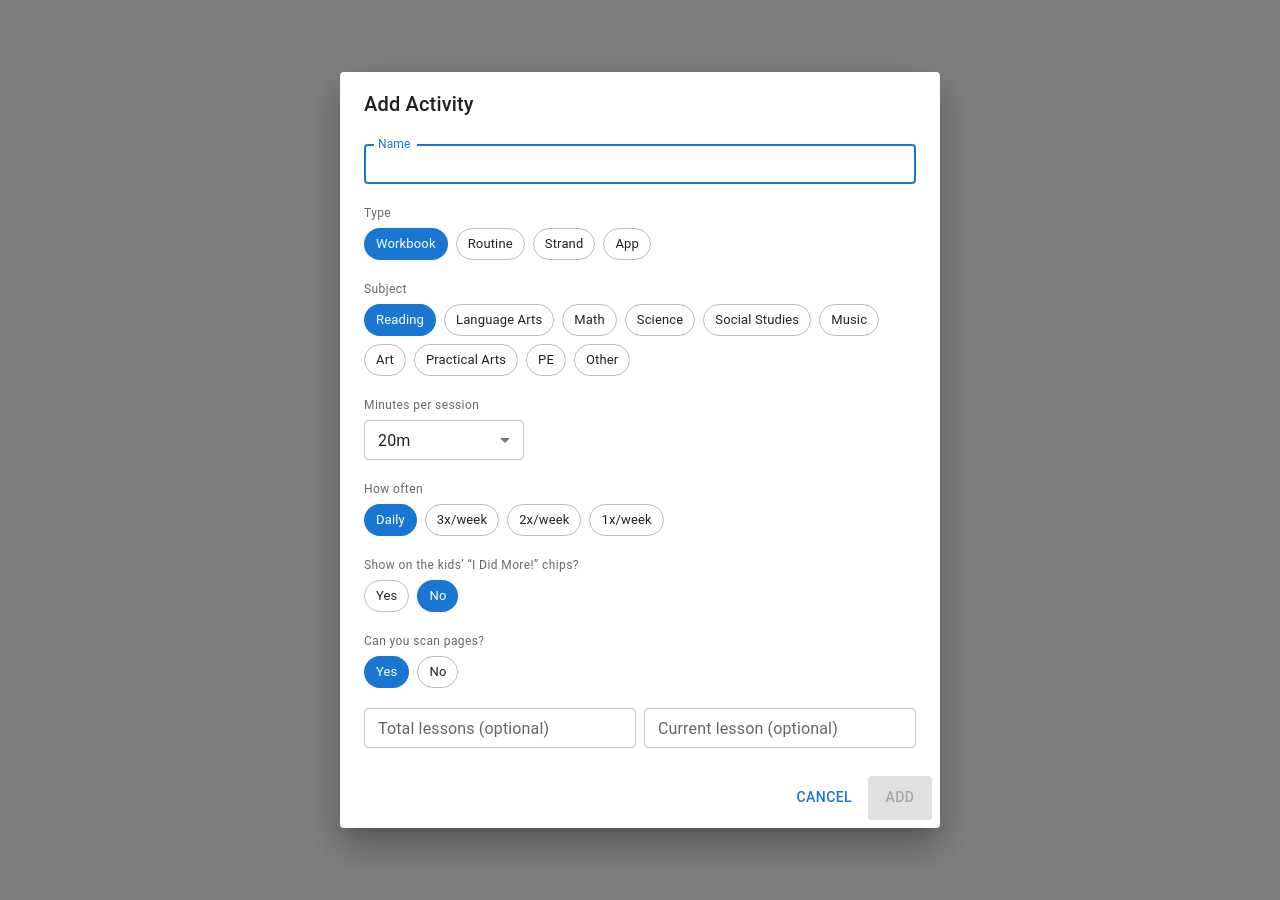
AddActivityDialog — minutes dropdown (UX-267) › offers the 15-minute steps plus the legacy 10/20 values
The width and height of the screenshot is (1280, 900).
Click the dropdown "20m" at {"x": 394, "y": 440}, box left=378, top=430, right=410, bottom=450
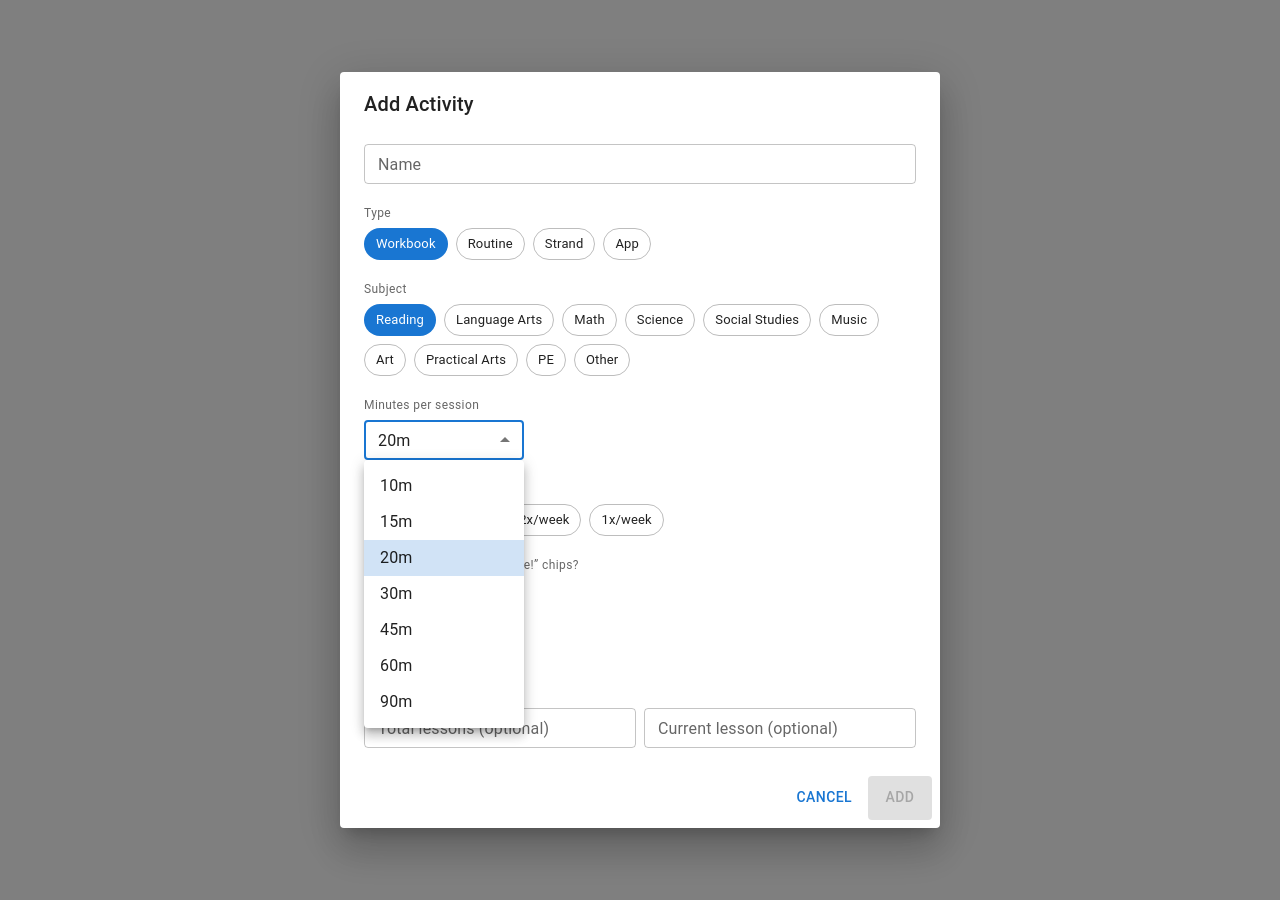
Expected: the option "10m" is shown, left=380, top=476, right=412, bottom=495
Expected: the option "15m" is shown, left=380, top=512, right=412, bottom=531
Expected: the option "20m" is shown, left=364, top=540, right=524, bottom=576
